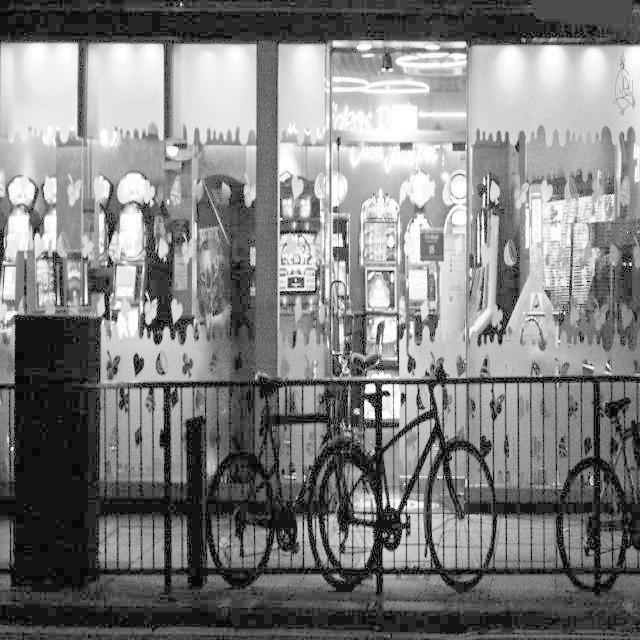Bicycle: (317, 342, 504, 594), (195, 359, 378, 597), (549, 355, 640, 590)
